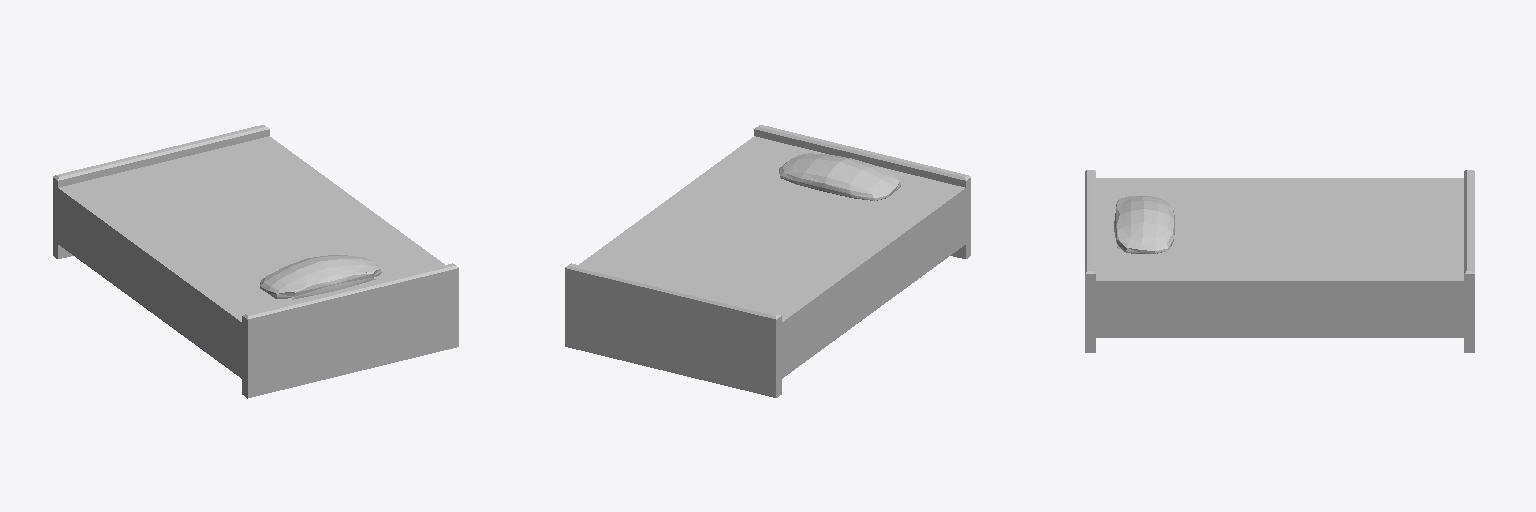
The model's file is Bed.obj.
3 renders of one model, left to right at view 1: azimuth 30°, elevation 25°; view 2: azimuth 150°, elevation 25°; view 3: azimuth 270°, elevation 25°, orthographic.
Visible parts, largest first — view 1: polySurface2 group; view 2: polySurface2 group; view 3: polySurface2 group.
Part boxes in pixels (bbox=[...]): polySurface2 group: bbox=[53, 125, 458, 398]; polySurface2 group: bbox=[565, 125, 970, 397]; polySurface2 group: bbox=[1085, 170, 1474, 352].
Bounding box in the file's own units: 230 × 93.93 × 366.